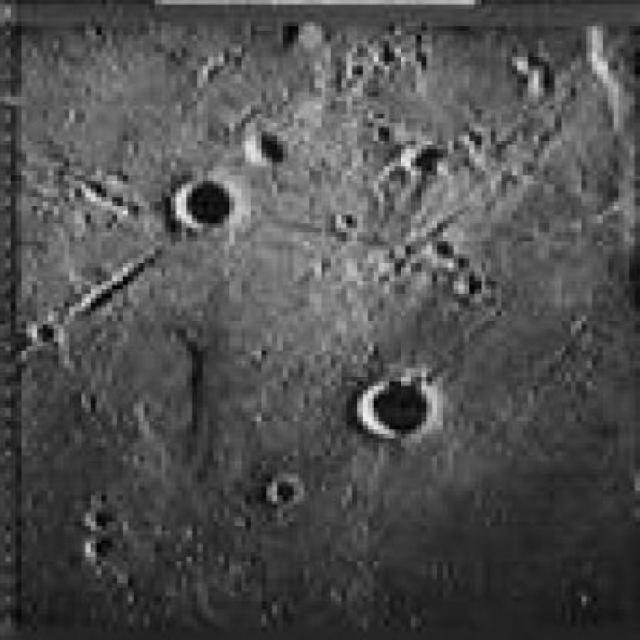crater: (356, 379, 435, 436), (179, 180, 233, 225), (268, 480, 298, 506)
